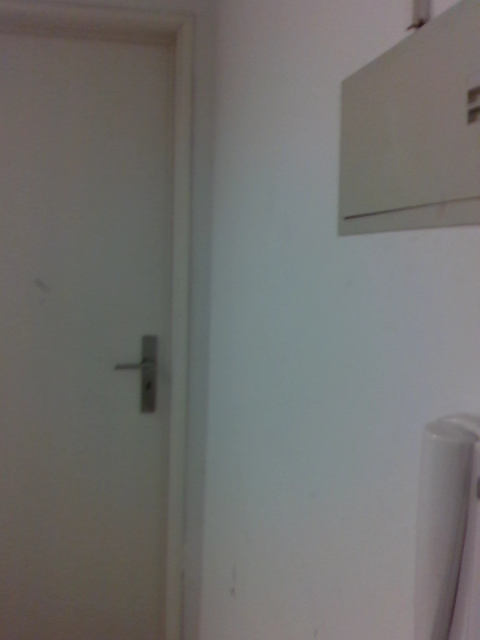closed: (0, 3, 212, 638)
